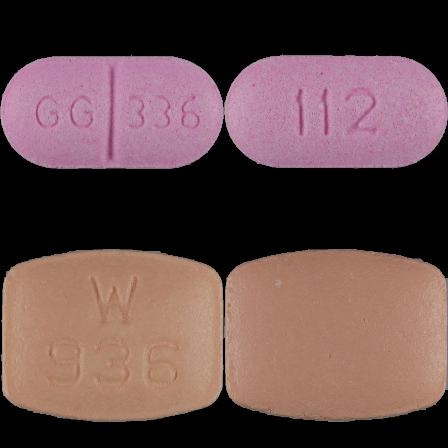35356-924: (0, 0, 224, 224)
